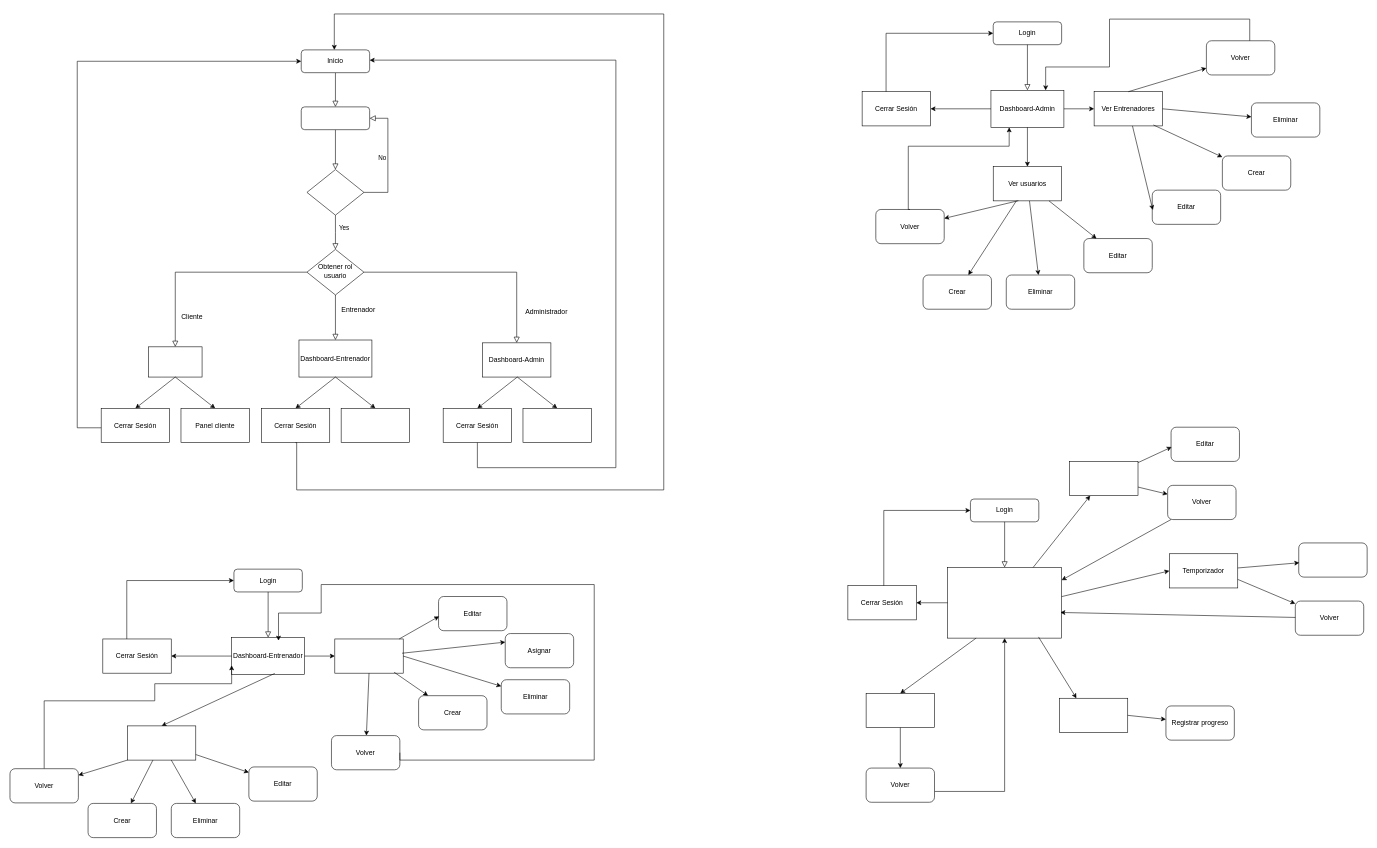
This 1377x848 diagram has some shape labels left out. Each missing label, with the centre of its shape:
"Dashboard cliente" belongs at [175,361].
"Dashboard-Cliente" belongs at [1004,602].
"Informacion personal" belongs at [1103,478].
"Inicicar/Finalizar" belongs at [1332,559].
"Panel administrador" belongs at [556,425].
"Panel entrenador" belongs at [375,425].
"Pantalla login" belongs at [335,118].
"Progreso" belongs at [900,710].
"Rutina" belongs at [1093,715].
"Usuario valido?" belongs at [335,192].
"Ver Ejercicios" belongs at [161,742].
"Ver rutinas" belongs at [368,655].
